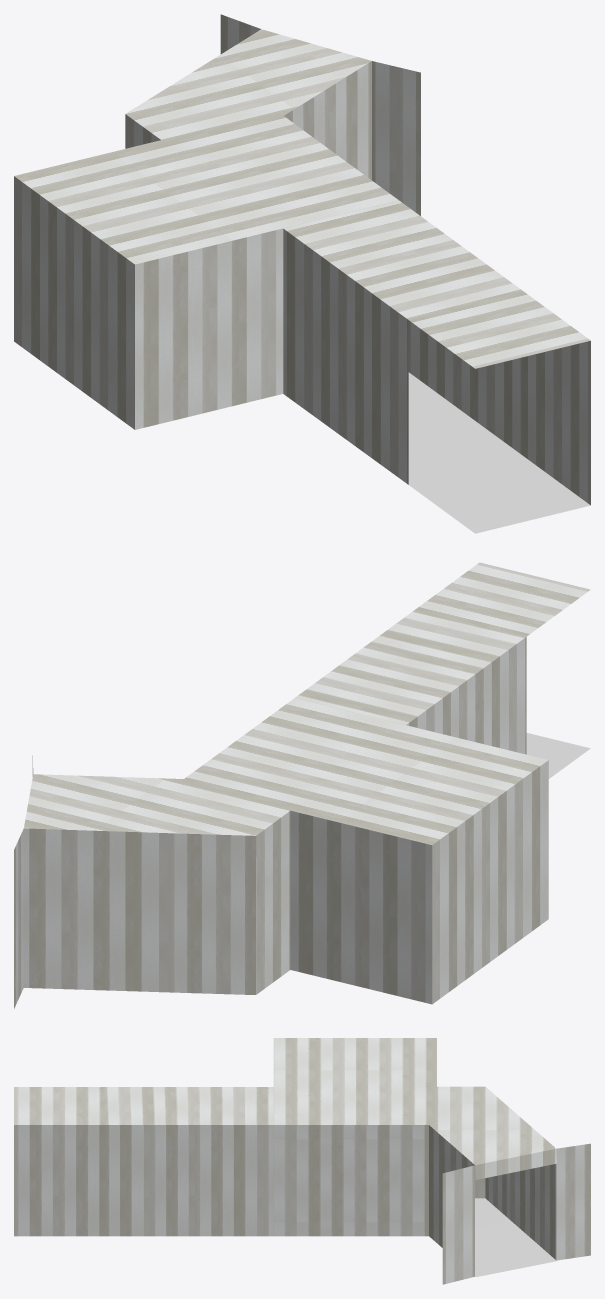
File: Hallwaytest.fbx
3 views of the same model, one above another, from view 1: azimuth 30°, elevation 25°; view 2: azimuth 150°, elevation 25°; view 3: azimuth 270°, elevation 25° (orthographic). The views are drawn at different scales.
Parts seen in each view (by area): view 1: Wall__7_, Wall__7_.001; view 2: Wall__7_, Wall__7_.001; view 3: Wall__7_, Wall__7_.001.
Part boxes in pixels (x1,y1,x2,y2): Wall__7_: (14, 14, 590, 505); Wall__7_.001: (408, 372, 590, 533); Wall__7_: (14, 562, 590, 1008); Wall__7_.001: (526, 733, 590, 778); Wall__7_: (14, 1038, 590, 1284); Wall__7_.001: (475, 1198, 556, 1276).
Bounding box in the file's own units: 981 × 378 × 1766.
